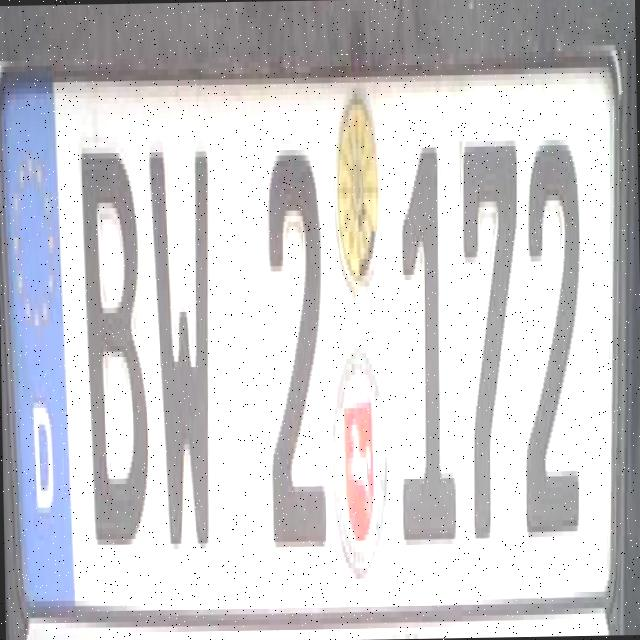Allemagne: (0, 87, 74, 619)
EU: (0, 59, 616, 622)
